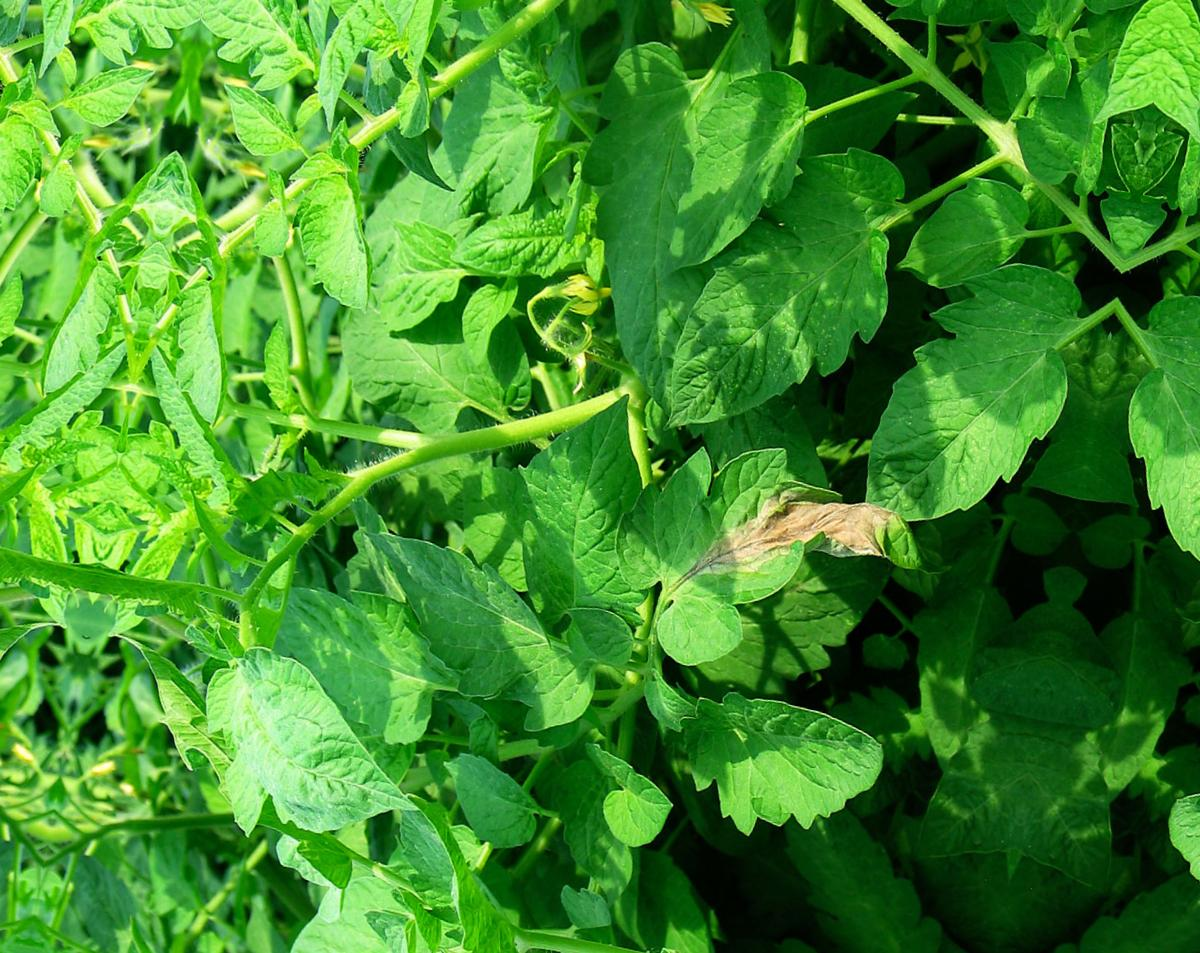Tomato leaf: (649, 124, 948, 469), (319, 503, 651, 749), (869, 237, 1099, 554), (230, 577, 503, 765), (634, 672, 902, 863), (642, 61, 837, 278), (890, 158, 1043, 310), (289, 146, 392, 325), (269, 870, 486, 953)
Tomato leaf late blight: (628, 431, 878, 681)
